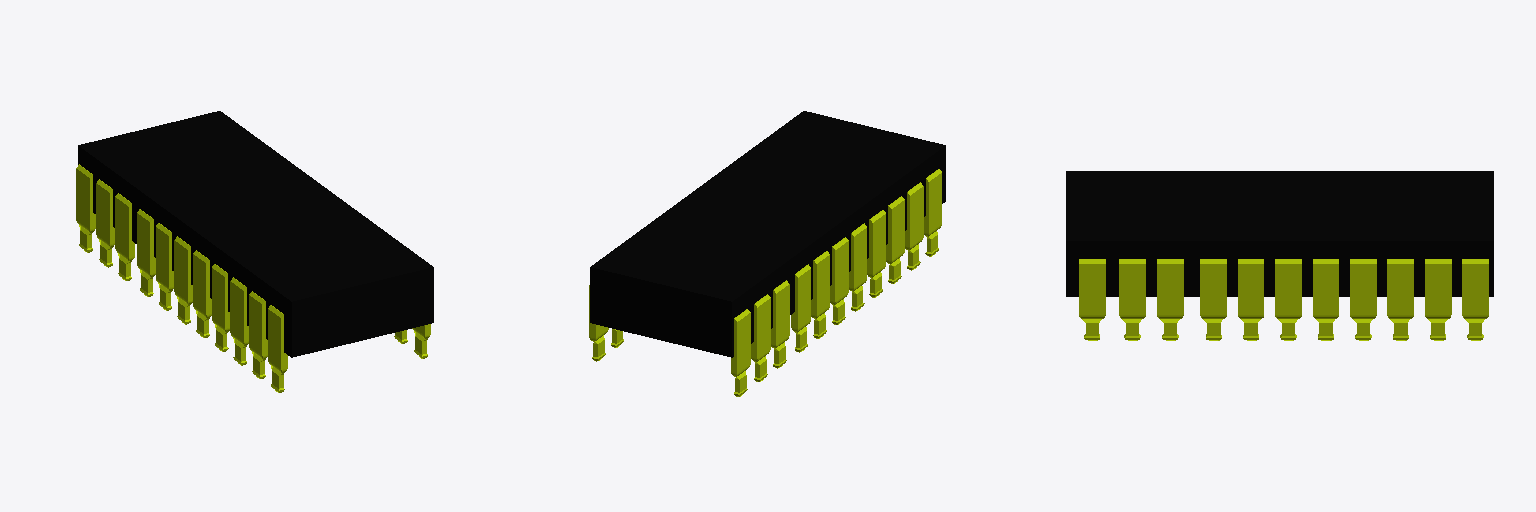
File: ALU.obj
3 views of the same model, side by side, from view 1: azimuth 30°, elevation 25°; view 2: azimuth 150°, elevation 25°; view 3: azimuth 270°, elevation 25° (orthographic).
Visible parts, largest first — view 1: Cube.001_Cube, Cube.008, Cube.005, Cube.007, Cube.006; view 2: Cube.001_Cube, Cube.008, Cube.005, Cube.006, Cube.007, Cube.004; view 3: Cube.001_Cube, Cube.004, Cube.002, Cube.003, Cube_Cube.001.
Part boxes in pixels (left/top/right/bottom): Cube.001_Cube: left=78, top=111, right=433, bottom=357; Cube.008: left=137, top=209, right=287, bottom=392; Cube.005: left=76, top=164, right=95, bottom=252; Cube.007: left=115, top=193, right=134, bottom=280; Cube.006: left=96, top=179, right=114, bottom=267; Cube.001_Cube: left=590, top=111, right=945, bottom=357; Cube.008: left=791, top=169, right=941, bottom=352; Cube.005: left=731, top=309, right=750, bottom=396; Cube.006: left=751, top=294, right=770, bottom=381; Cube.007: left=771, top=280, right=789, bottom=368; Cube.004: left=589, top=285, right=623, bottom=361; Cube.001_Cube: left=1066, top=171, right=1493, bottom=296; Cube.004: left=1200, top=259, right=1488, bottom=340; Cube.002: left=1119, top=259, right=1145, bottom=340; Cube.003: left=1157, top=259, right=1183, bottom=340; Cube_Cube.001: left=1079, top=259, right=1105, bottom=340.
Bounding box in the file's own units: 0.8057 × 0.5146 × 2.